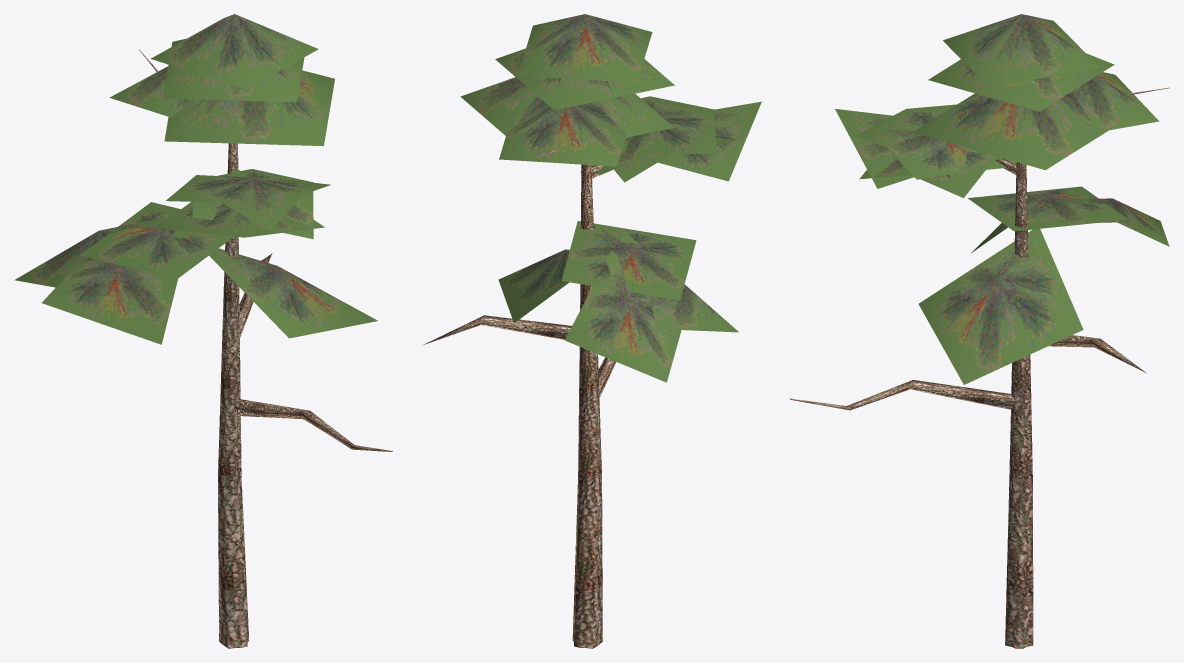
Rendered from tree_tall.fbx.
The picture shows the model from 3 angles, left to right: view 1: azimuth 30°, elevation 25°; view 2: azimuth 150°, elevation 25°; view 3: azimuth 270°, elevation 25°; orthographic projection.
Visible parts, largest first — view 1: tree_tall; view 2: tree_tall; view 3: tree_tall.
Boxes of the visible parts, x1,y1,x2,y2 form: tree_tall: (14,14,392,648); tree_tall: (422,14,761,648); tree_tall: (790,14,1169,648).
Size of the model in its own units: 555 by 1152 by 630.
